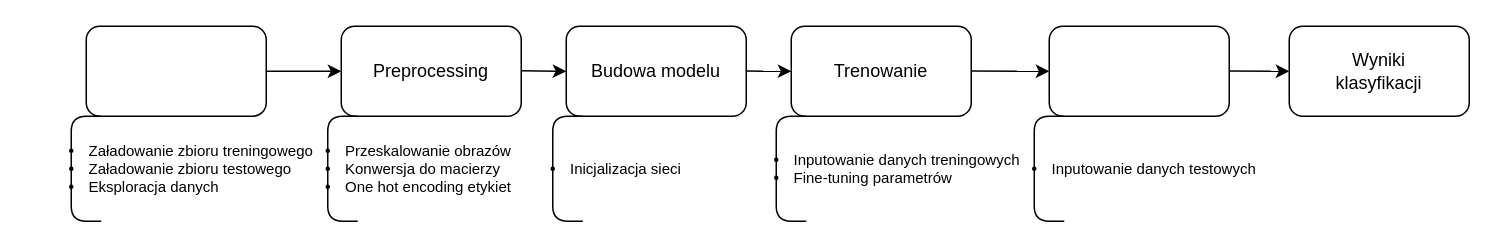
This 1496x248 diagram has some shape labels left out. Each missing label, with the box of its shape:
Testowanie: (1048, 25, 1229, 116)
Zebranie danych: (85, 25, 266, 116)
